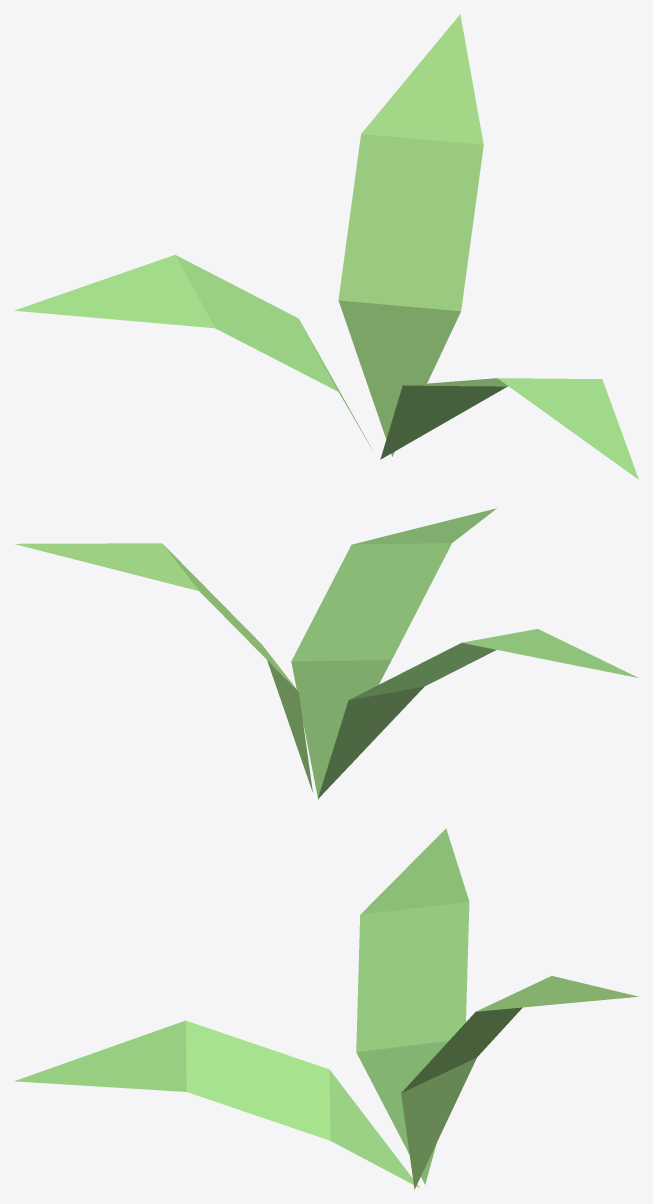
File: Plant_b_TwoS_04.fbx
3 views of the same model, one above another, from view 1: azimuth 30°, elevation 25°; view 2: azimuth 150°, elevation 25°; view 3: azimuth 270°, elevation 25° (orthographic). The views are drawn at different scales.
Visible parts, largest first — view 1: Plant_b_TwoS_04; view 2: Plant_b_TwoS_04; view 3: Plant_b_TwoS_04.
Boxes of the visible parts, left/top/right/bottom form: Plant_b_TwoS_04: left=14, top=14, right=638, bottom=479; Plant_b_TwoS_04: left=15, top=508, right=638, bottom=799; Plant_b_TwoS_04: left=14, top=828, right=638, bottom=1189.
Size of the model in its own units: 71.24 by 38.06 by 76.8.
